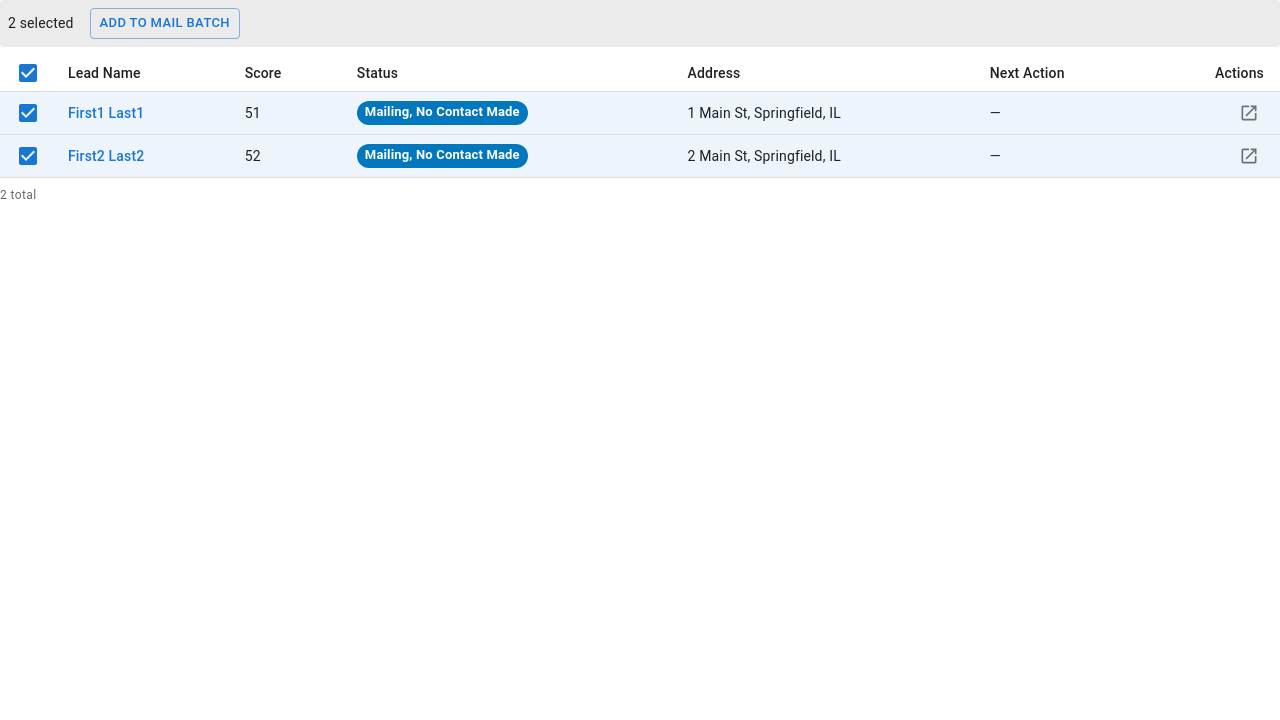
Test: QueueTable › bulk partial failure summary › shows durable direct-mail details and issue drill-down
What coordinates should you click on to do the following:
click the button with test id "bulk-mail"
I would click on:
 (165, 23)
Its box is [90,8,240,39].
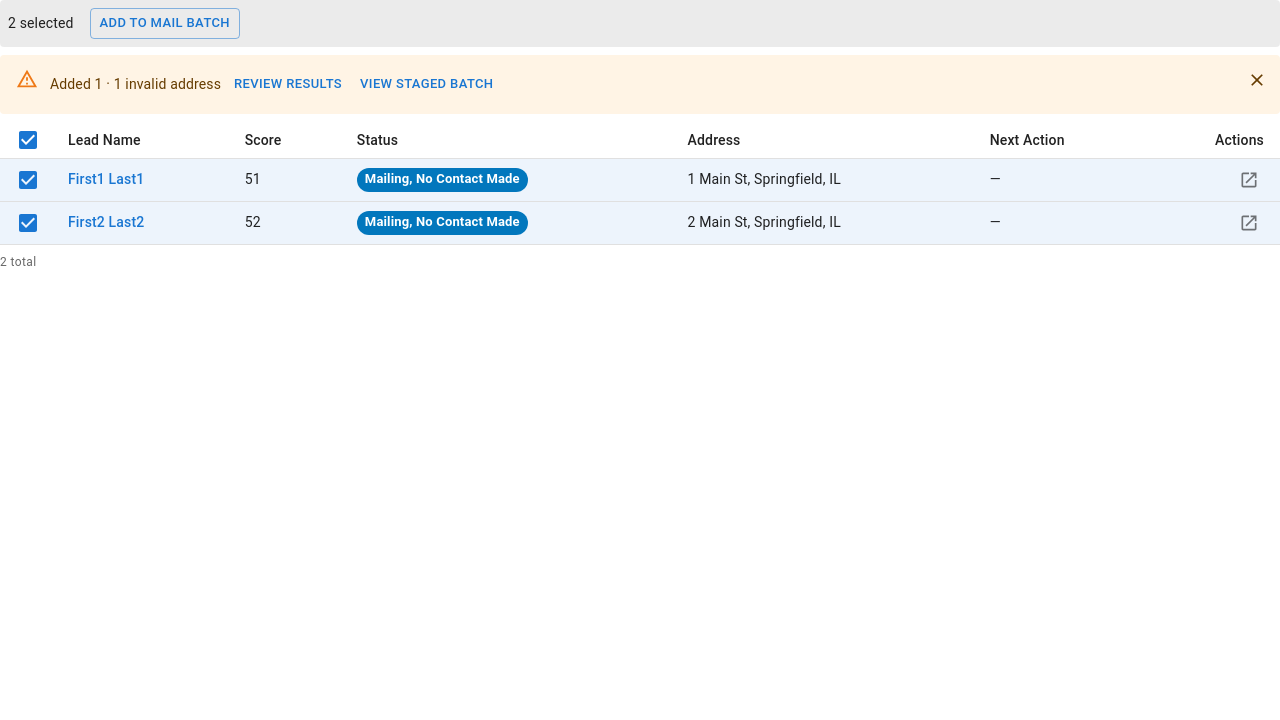
Now the text "Added 1 · 1 invalid address" is shown, box [50,74,221,94]
What coordinates should you click on to do the following:
click the button "Review results"
I would click on:
 (288, 84)
Its box is [229,69,347,100].
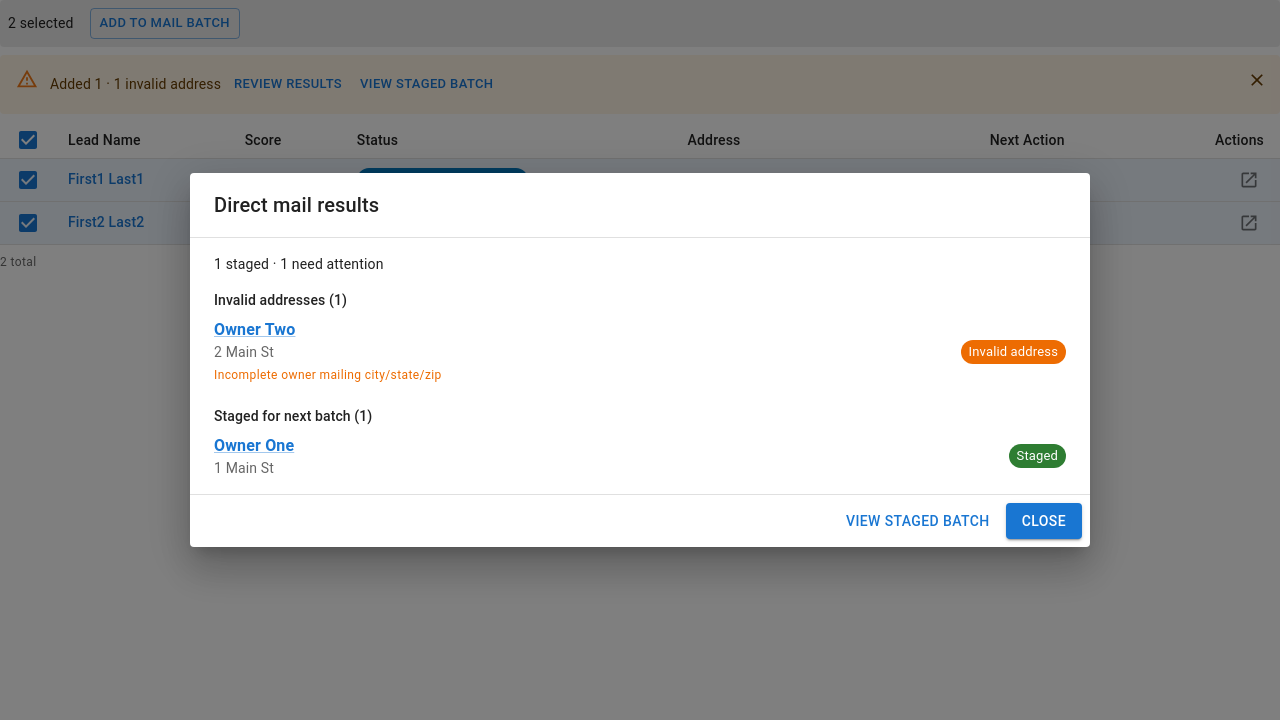
Now the heading "Invalid addresses (1)" is shown, box [214,292,347,308]
Now the text "Incomplete owner mailing city/state/zip" is shown, box [214,368,442,382]
